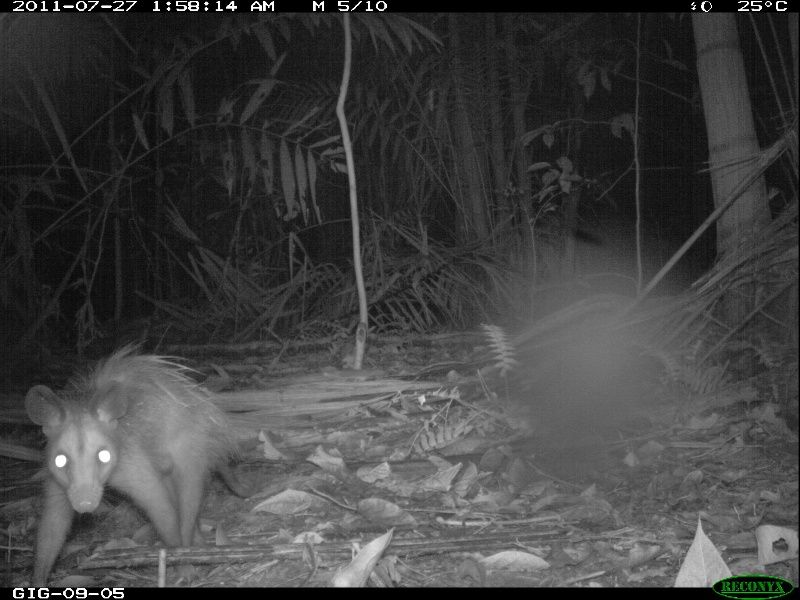opossum: (22, 346, 245, 584)
